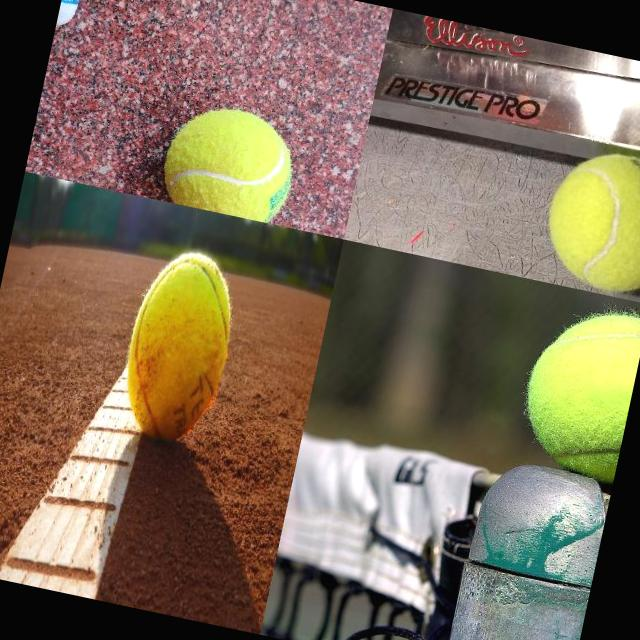tennis-ball: (110, 243, 245, 453), (510, 296, 640, 481), (156, 96, 302, 224), (533, 139, 640, 304)
